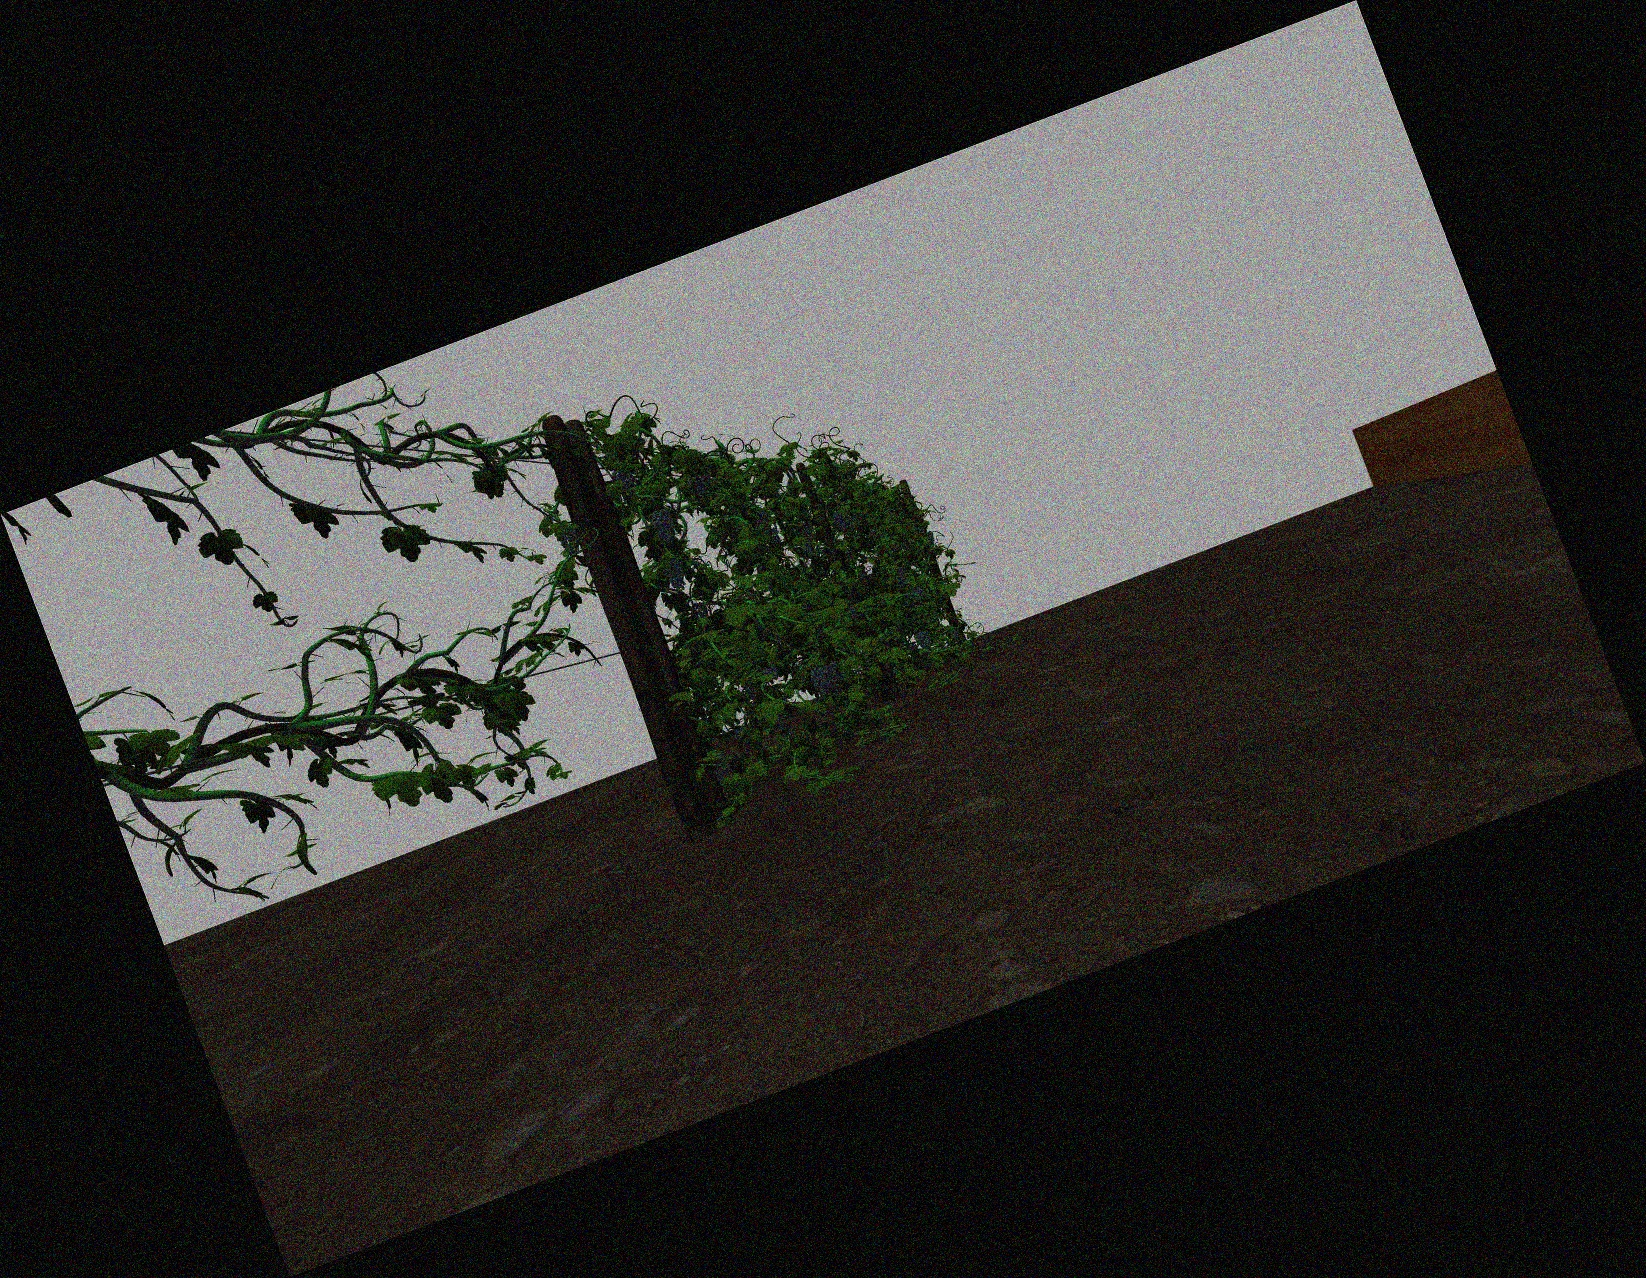grape: (664, 556, 685, 592), (558, 526, 579, 558), (689, 475, 713, 501), (655, 511, 673, 544), (616, 470, 636, 499), (713, 753, 732, 780), (812, 669, 828, 694), (824, 662, 840, 682), (892, 568, 907, 588), (835, 511, 848, 533), (756, 513, 771, 531), (918, 632, 933, 649), (767, 530, 780, 548), (802, 541, 815, 557), (914, 588, 926, 605), (802, 522, 814, 537), (927, 530, 937, 544), (950, 632, 961, 641)
